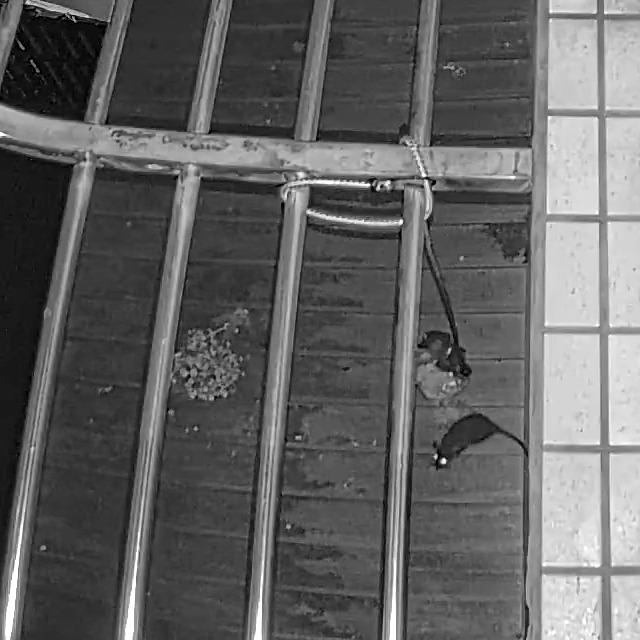rat: (431, 414, 527, 476)
